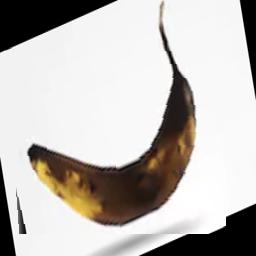Banana Rotten: (5, 41, 226, 234)
